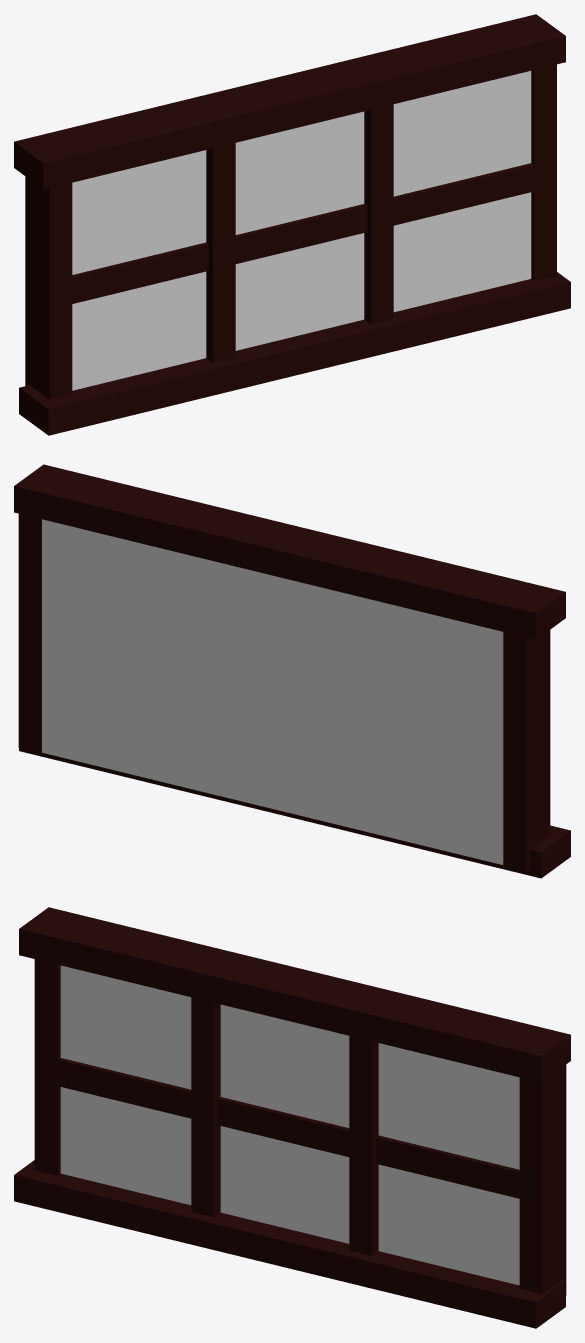
The model's file is Window.fbx.
3 renders of one model, top to bottom at view 1: azimuth 30°, elevation 25°; view 2: azimuth 150°, elevation 25°; view 3: azimuth 330°, elevation 25°, orthographic.
Visible parts, largest first — view 1: Cube.012, Cube.013, Cube.014, Cube.019, Cube.002, Cube.017, Cube.018, Cube.016; view 2: Cube.012, Cube.013, Cube.002, Cube.016, Cube.014; view 3: Cube.012, Cube.013, Cube.014, Cube.019, Cube.016, Cube.018, Cube.017, Cube.002.
Boxes of the visible parts, box(x1,y1,x2,y2) form: Cube.012: box(72, 71, 531, 390); Cube.013: box(14, 14, 565, 189); Cube.014: box(19, 272, 570, 435); Cube.019: box(72, 163, 533, 303); Cube.002: box(25, 176, 72, 399); Cube.017: box(206, 143, 235, 362); Cube.018: box(364, 104, 393, 324); Cube.016: box(531, 64, 556, 280); Cube.012: box(42, 519, 503, 864); Cube.013: box(14, 464, 565, 639); Cube.002: box(503, 630, 550, 871); Cube.016: box(18, 513, 41, 753); Cube.014: box(19, 748, 570, 878); Cube.012: box(60, 965, 519, 1285); Cube.013: box(19, 907, 570, 1082); Cube.014: box(14, 1160, 565, 1328); Cube.019: box(58, 1058, 519, 1198); Cube.016: box(519, 1065, 566, 1295); Cube.018: box(349, 1036, 378, 1255); Cube.017: box(191, 997, 220, 1217); Cube.002: box(34, 959, 60, 1175).
Size of the model in its own units: 594 by 292 by 68.41.
